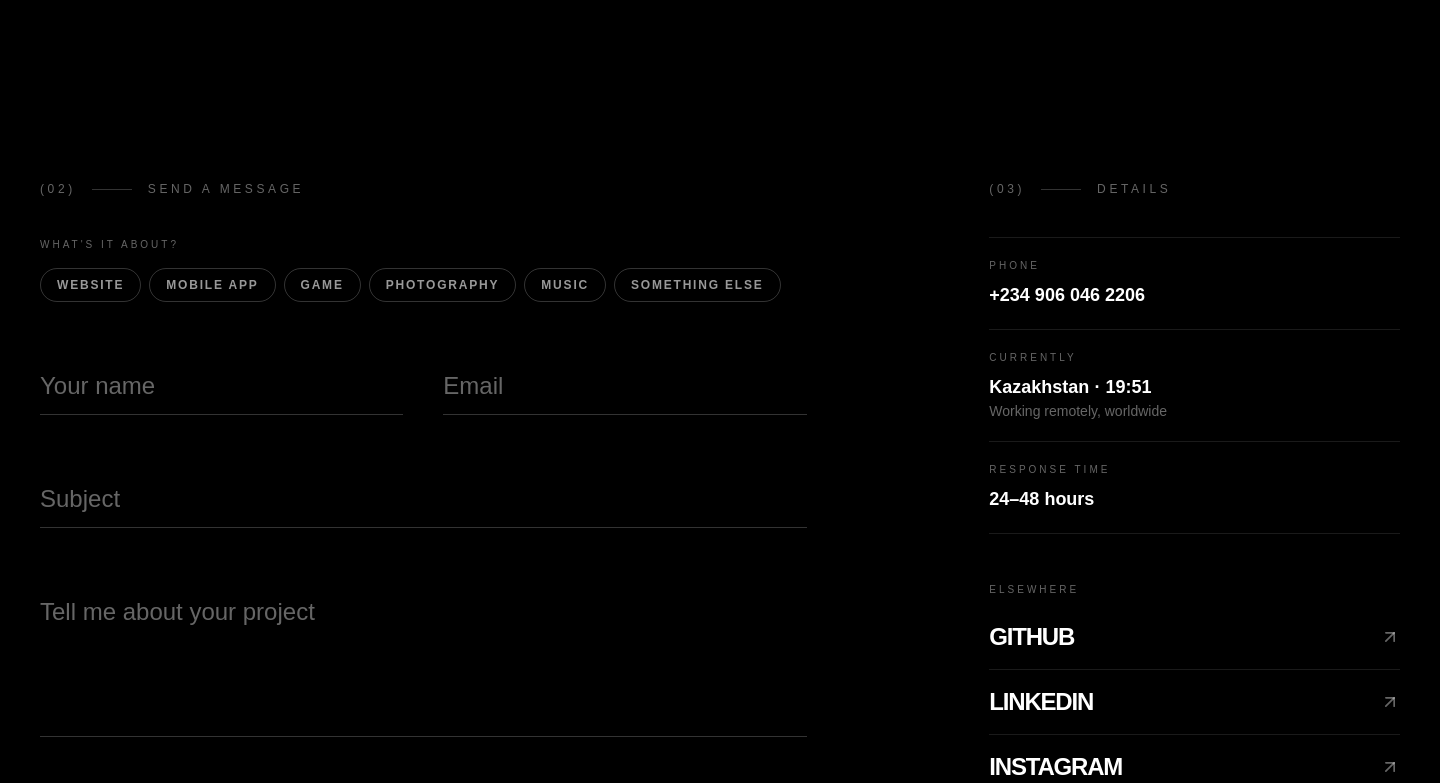
Scenario: Contact form › falls back to the email address if the request can't be made
(page scrolled)
Type "Ada Lovelace" into the field labelled "Your name" at (222, 378), box x1=40 y1=342 x2=403 y2=415
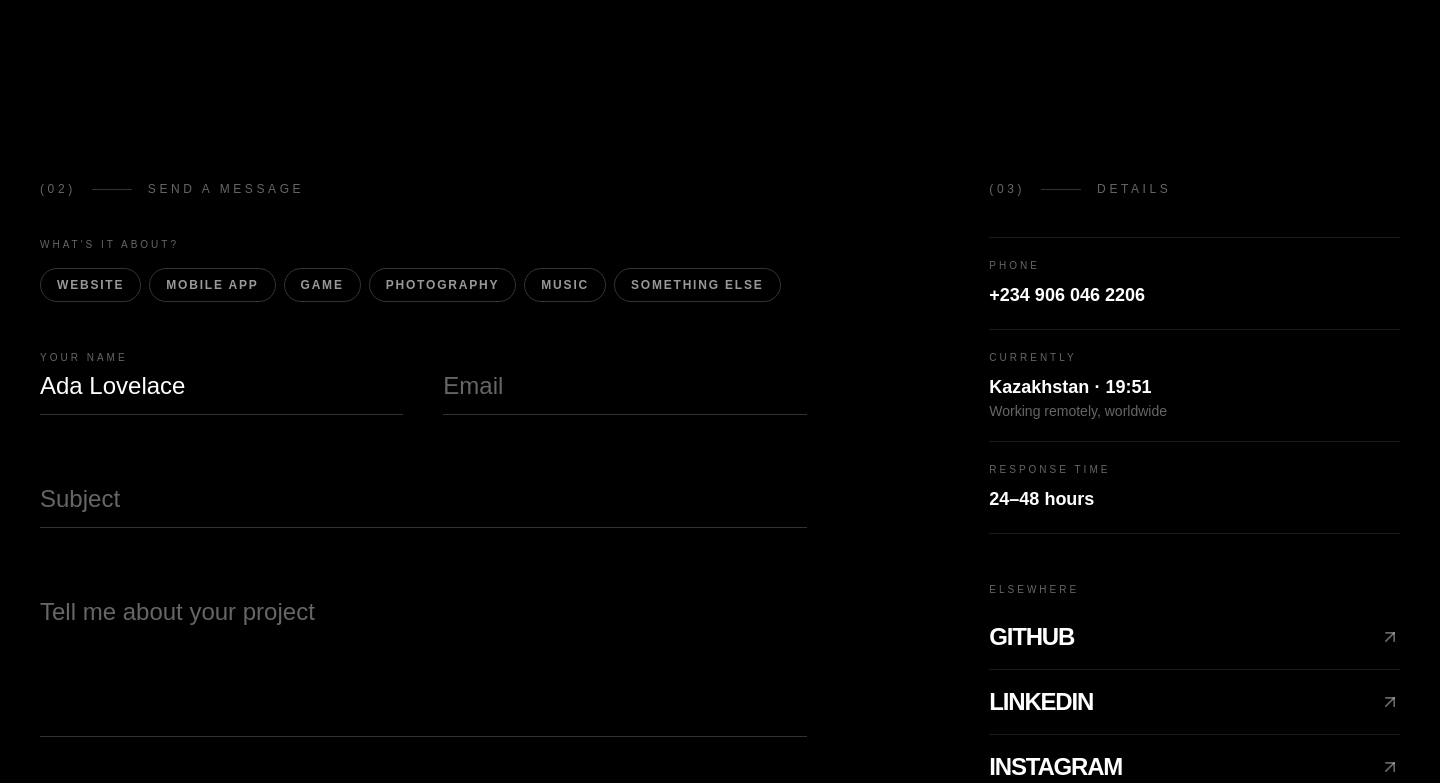
Type "ada@example.com" into the field labelled "Email" at (625, 378), box x1=443 y1=342 x2=807 y2=415
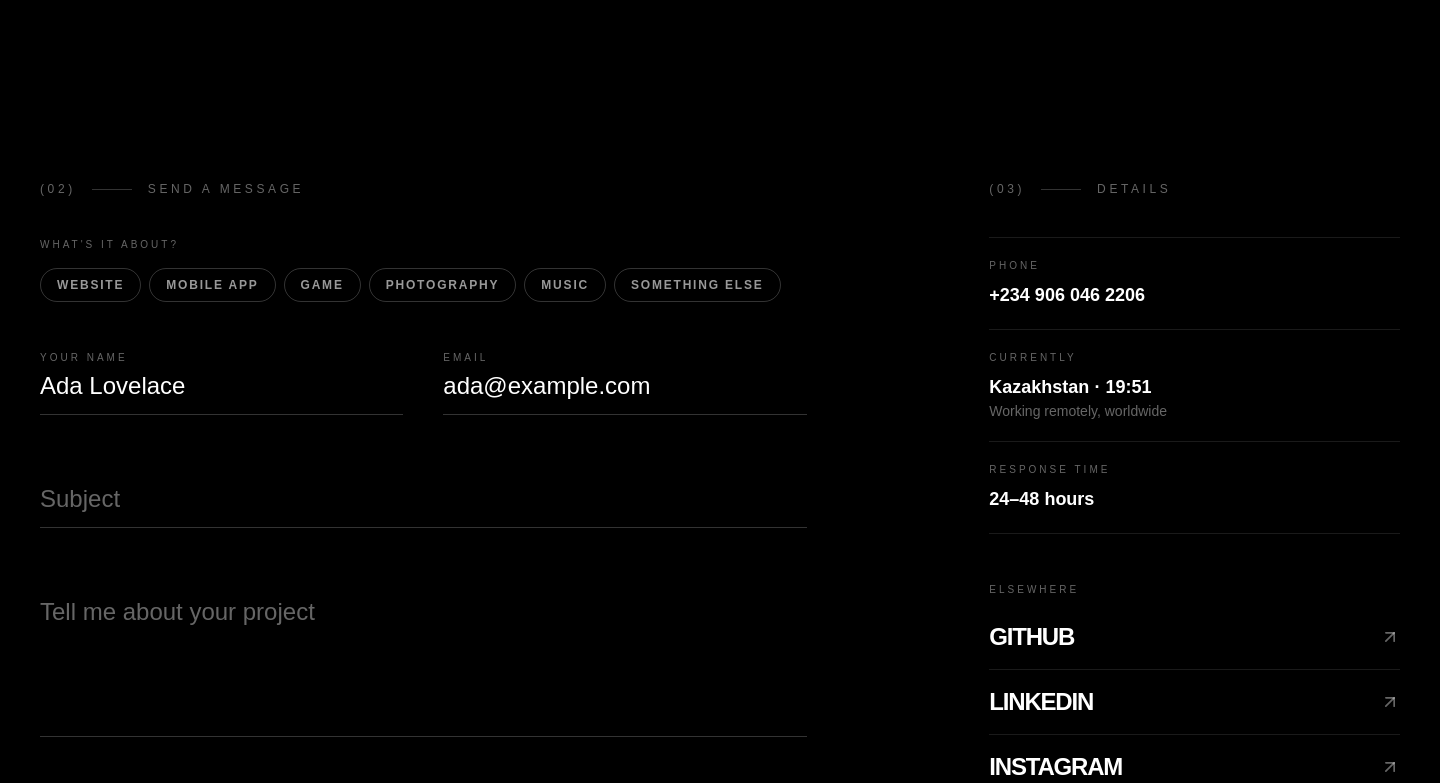
Type "New website" into the field labelled "Subject" at (423, 492), box x1=40 y1=455 x2=807 y2=528
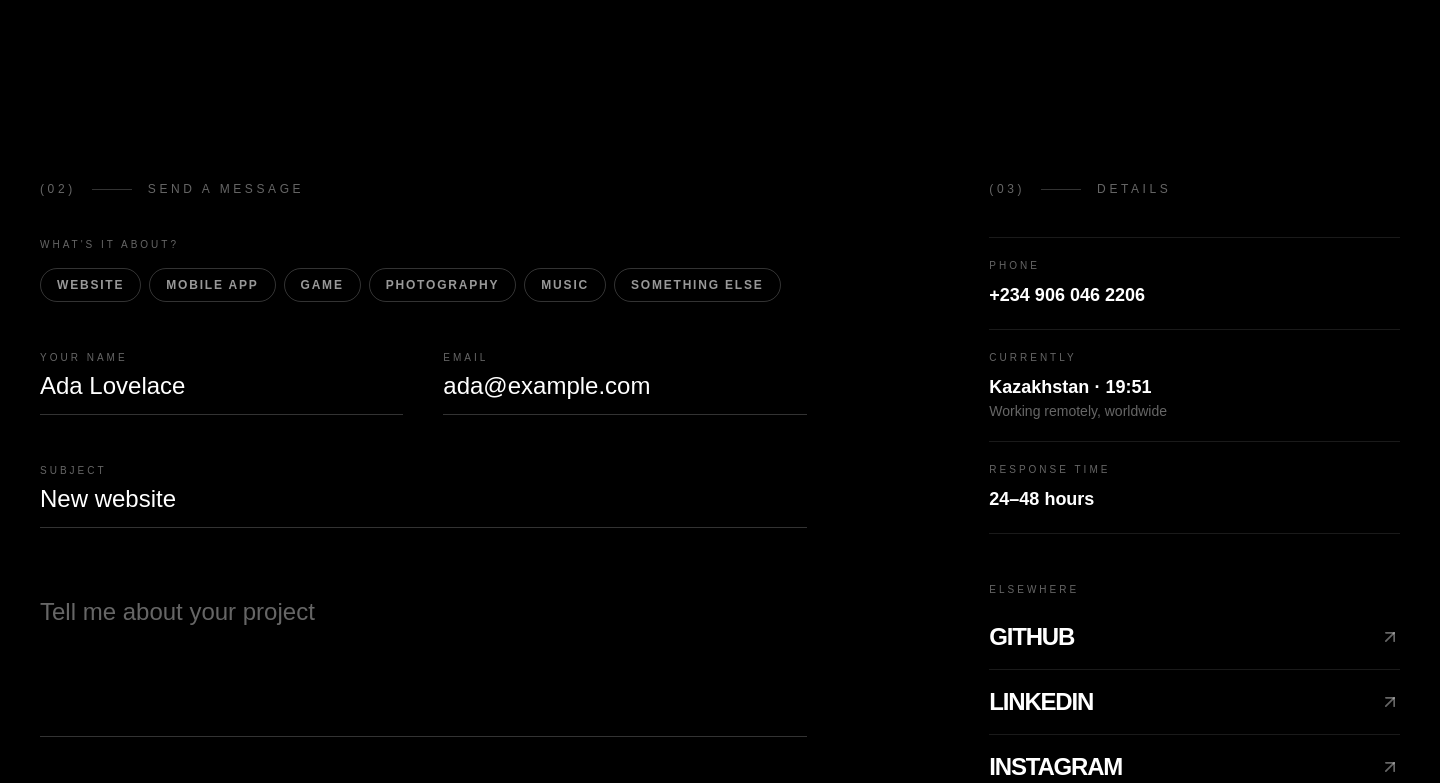
Type "I'd like to build a portfolio site." into the text box labelled "Tell me about your project" at (423, 652), box x1=40 y1=568 x2=807 y2=737
(page scrolled)
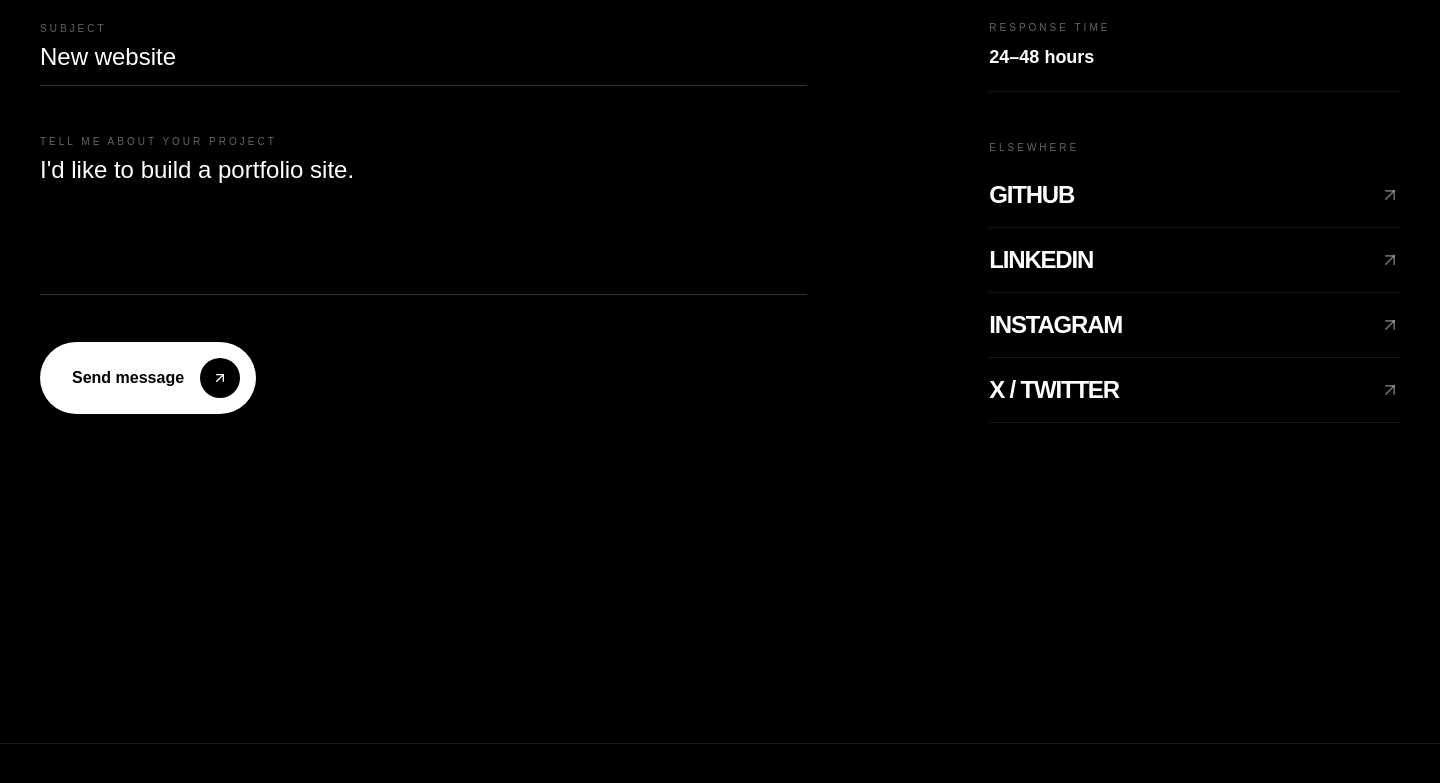
Click the button "Send message" at (148, 378), box x1=40 y1=342 x2=256 y2=414
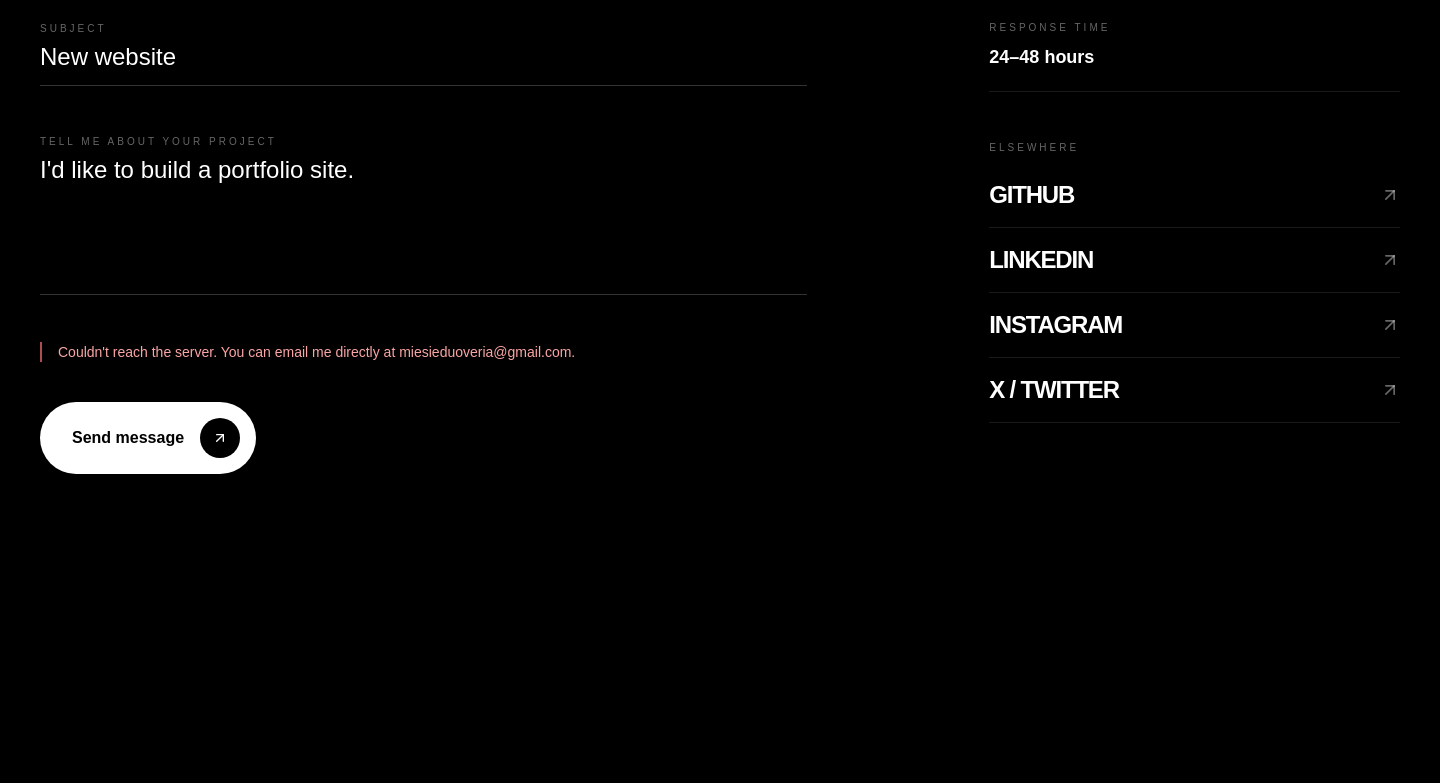
Check: the message shows "miesieduoveria@gmail.com", box x1=58 y1=344 x2=575 y2=360
